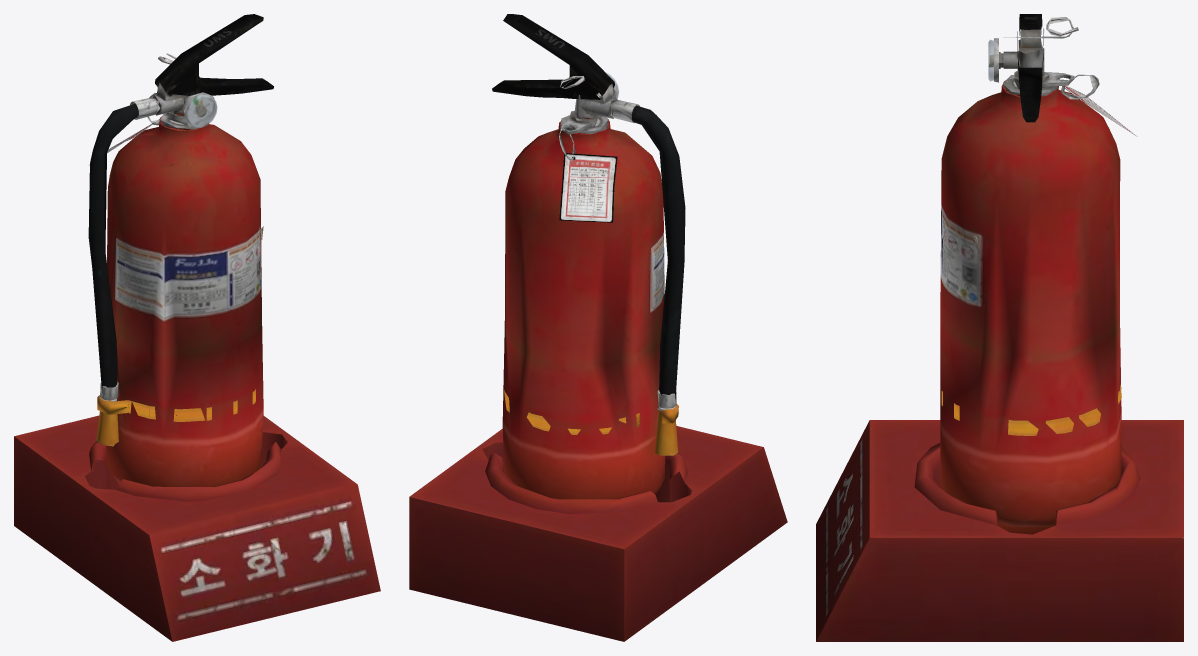
File: korean_fire_extinguisher_01.glb
The picture shows the model from 3 angles, left to right: view 1: azimuth 30°, elevation 25°; view 2: azimuth 150°, elevation 25°; view 3: azimuth 270°, elevation 25°; orthographic projection. The views are drawn at different scales.
Parts seen in each view (by area): view 1: korean_fire_extinguisher_01; view 2: korean_fire_extinguisher_01; view 3: korean_fire_extinguisher_01.
Part boxes in pixels (bbox=[...]): korean_fire_extinguisher_01: bbox=[14, 14, 380, 641]; korean_fire_extinguisher_01: bbox=[409, 14, 787, 641]; korean_fire_extinguisher_01: bbox=[816, 14, 1183, 641].
Bounding box in the file's own units: 0.279 × 0.6581 × 0.3674.
3 materials, 3 textured.
